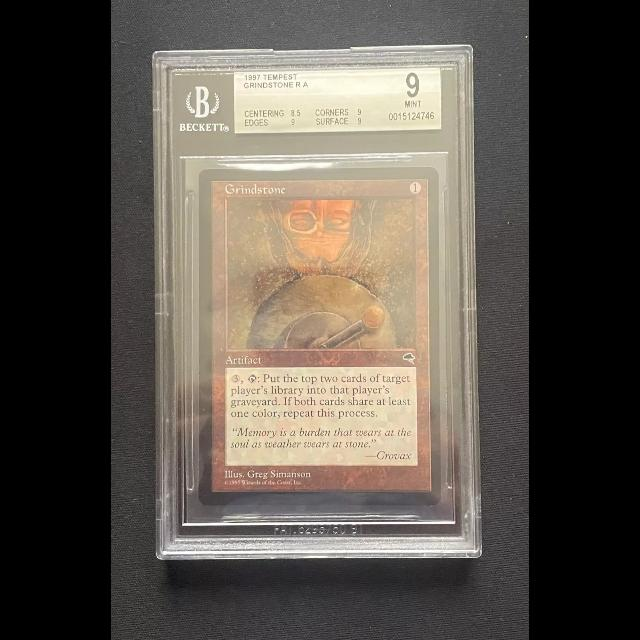bgs_label: (234, 66, 442, 134)
bgs_slab: (152, 45, 484, 560)
card: (198, 167, 442, 507)
